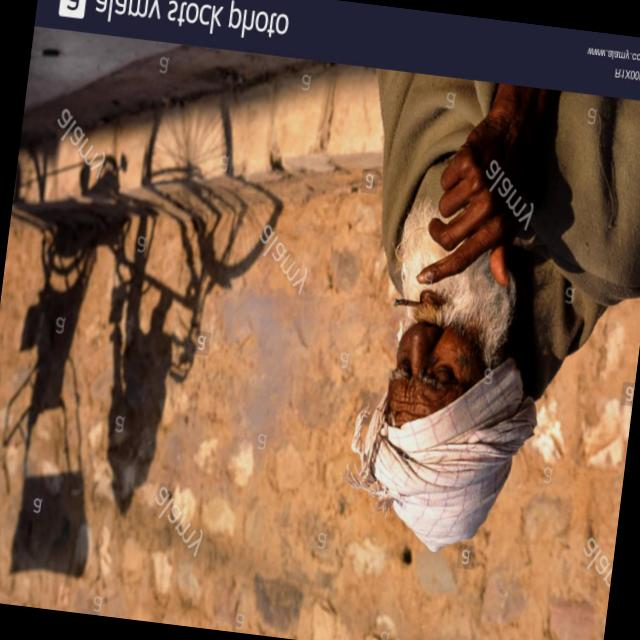smoke: (382, 266, 437, 334)
